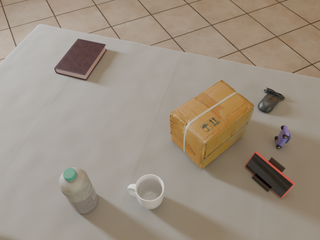book: (54, 39, 107, 80)
bottle: (59, 167, 98, 214)
box: (170, 80, 254, 171)
cup: (127, 174, 164, 209)
mouse: (258, 88, 285, 112)
phone: (245, 152, 295, 198)
toy_car: (275, 126, 291, 149)
